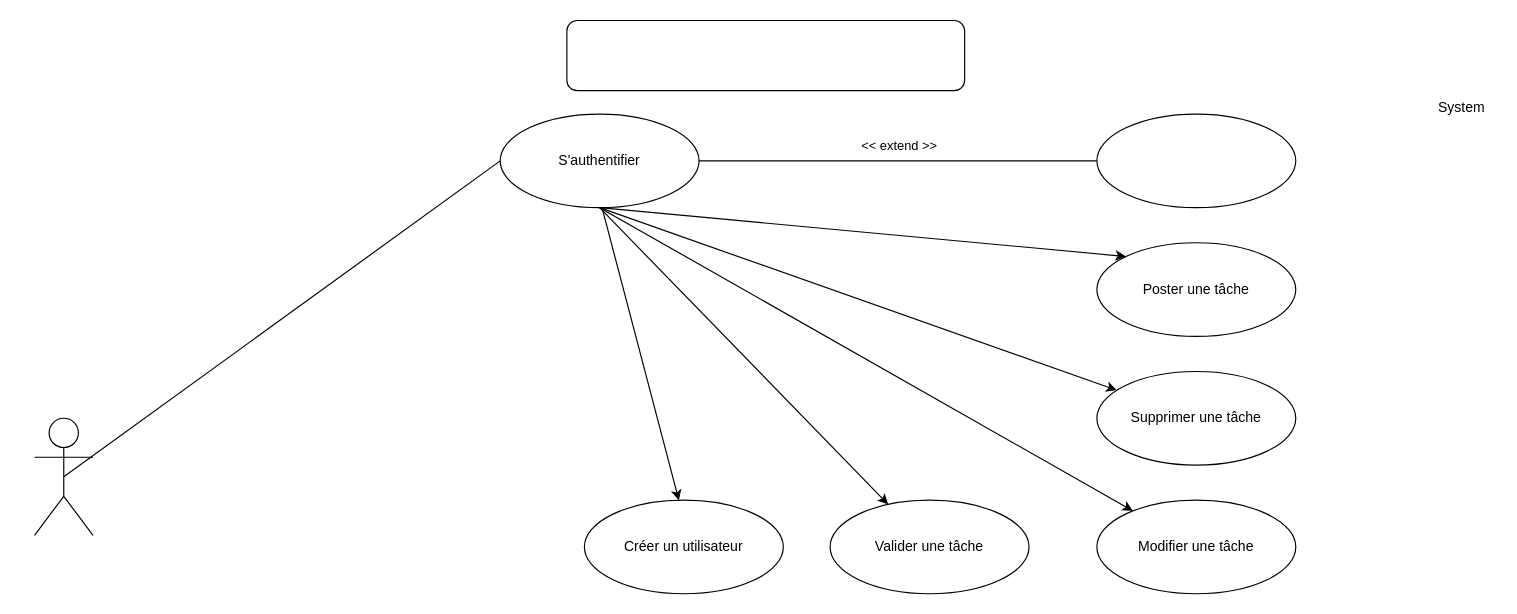
Some shapes in this 1517 by 614 pixel diagram are drawn without their labels. Here are the shapes that lost their labels. From the top down, the centre of each, then its label:
point (765, 55): Cas d'utilisation
point (1196, 160): S'inscrire
point (63, 476): Utilisateur Admnistrateur
